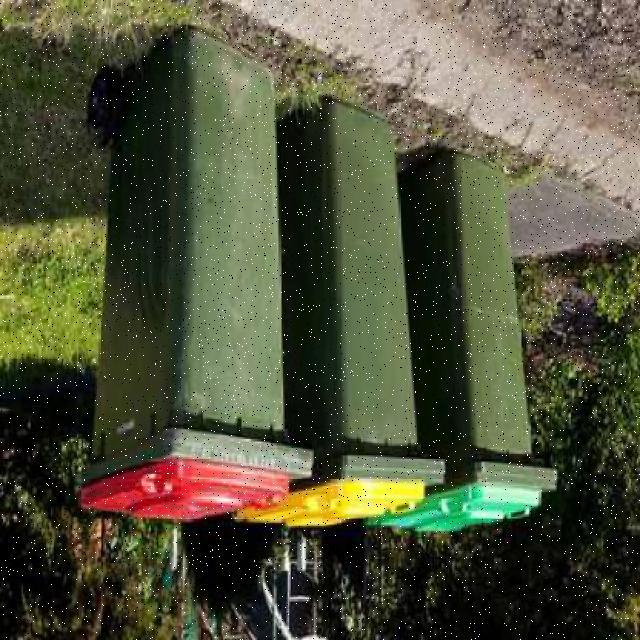garbage container: (74, 17, 320, 528), (277, 66, 450, 534), (396, 140, 564, 542)
